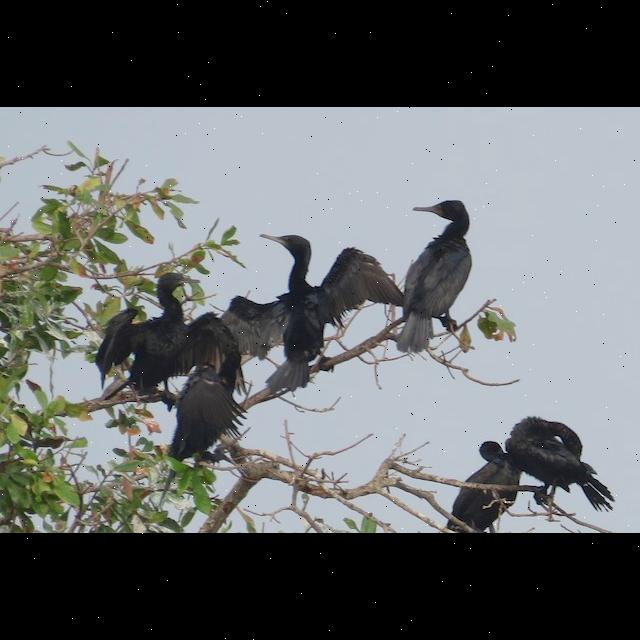cormorant: (234, 219, 384, 389), (385, 192, 477, 366)
